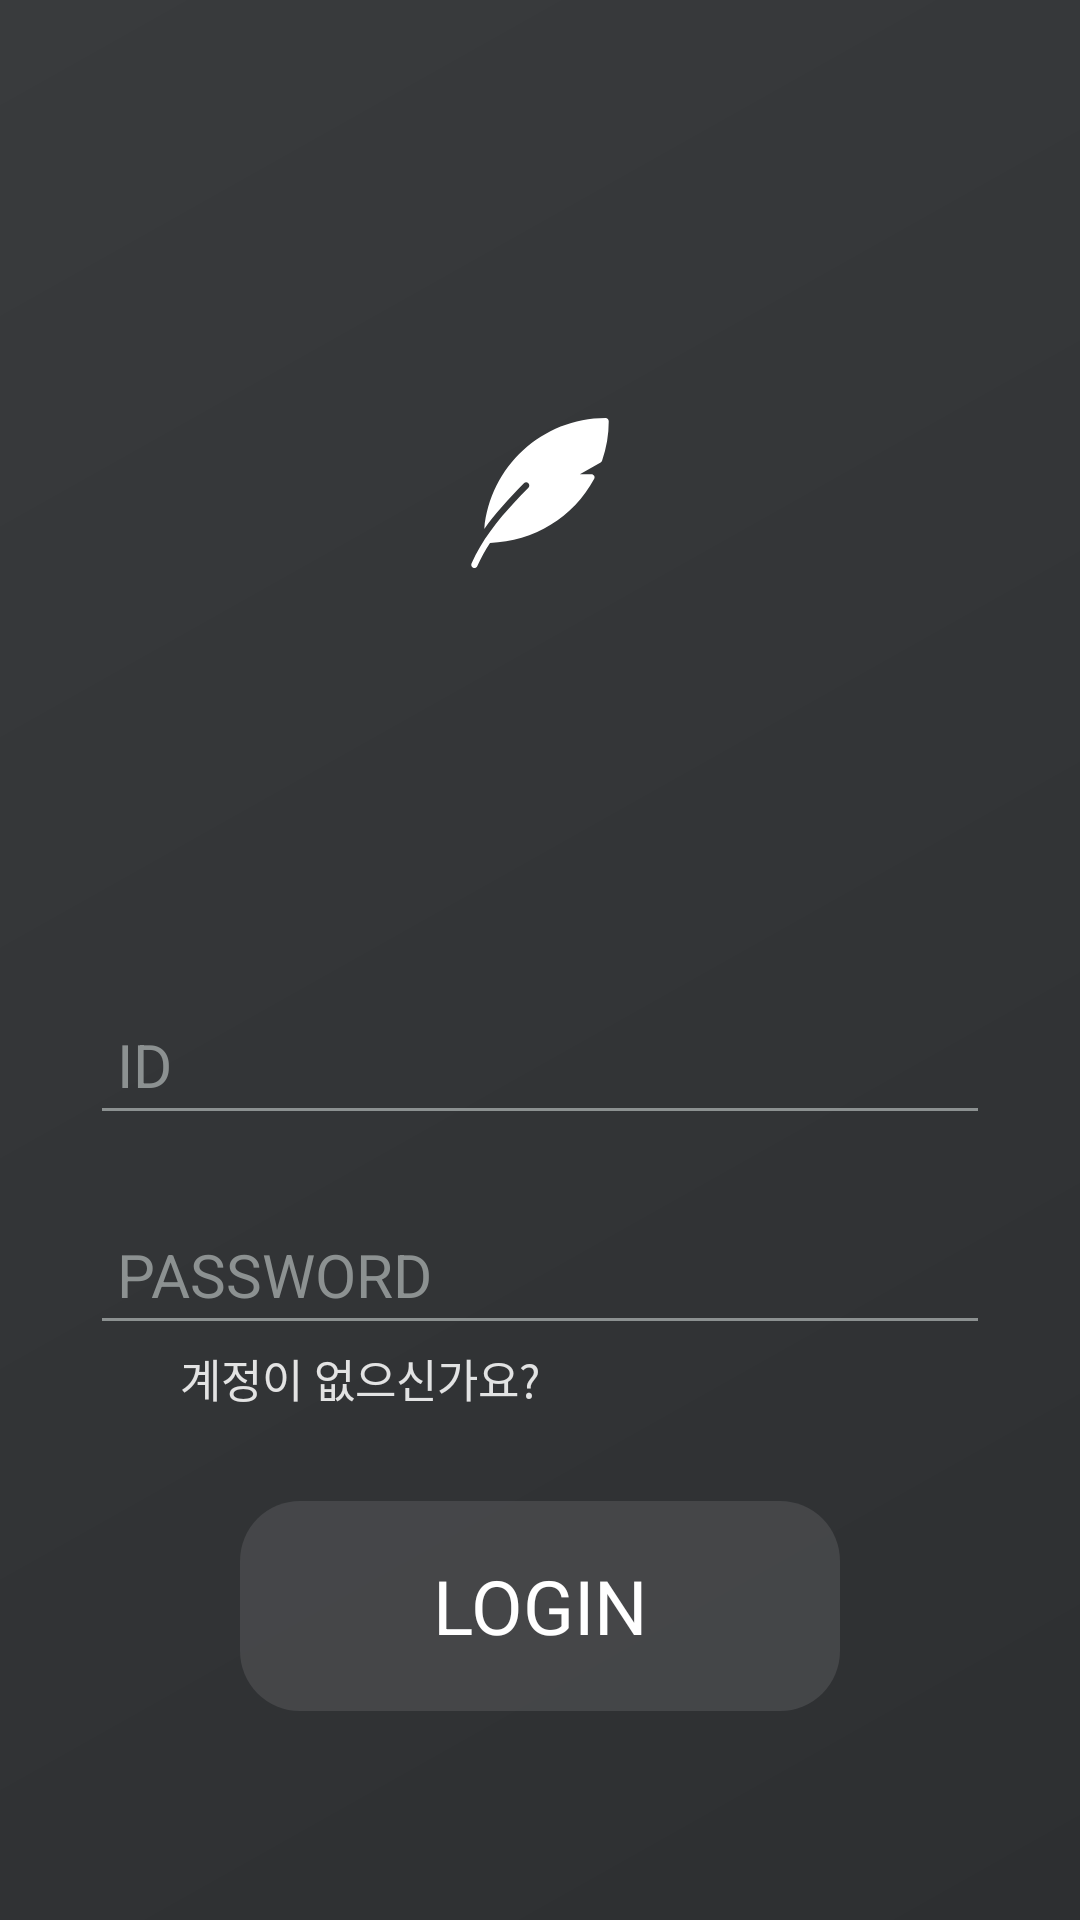

Screen size 1080*1920. Icon name, then its box in pixels as (x1, y1, x2, y2):
quill: (471, 418, 609, 568)
